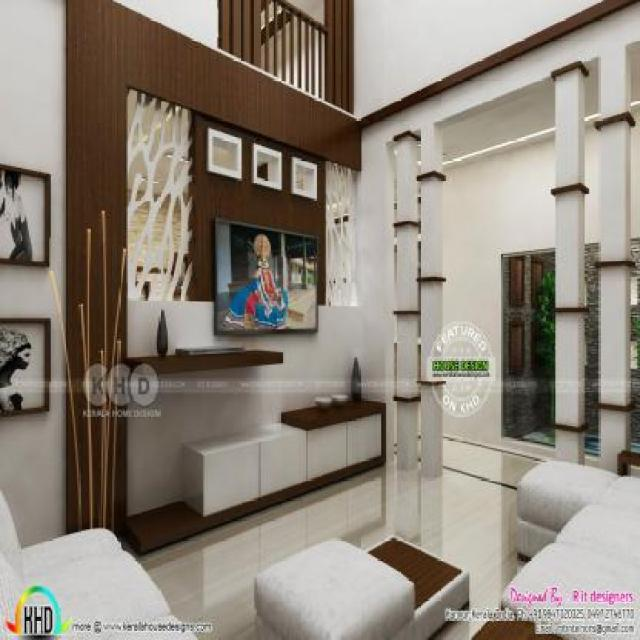Floor: (118, 432, 554, 640)
